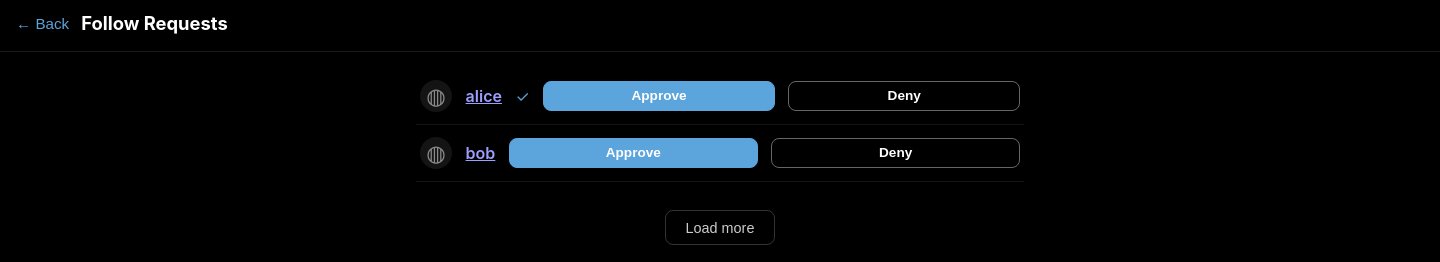
Test: denying removes the row
Click the button with aria-label "Deny bob".
click(896, 153)  # box [771,138,1020,168]
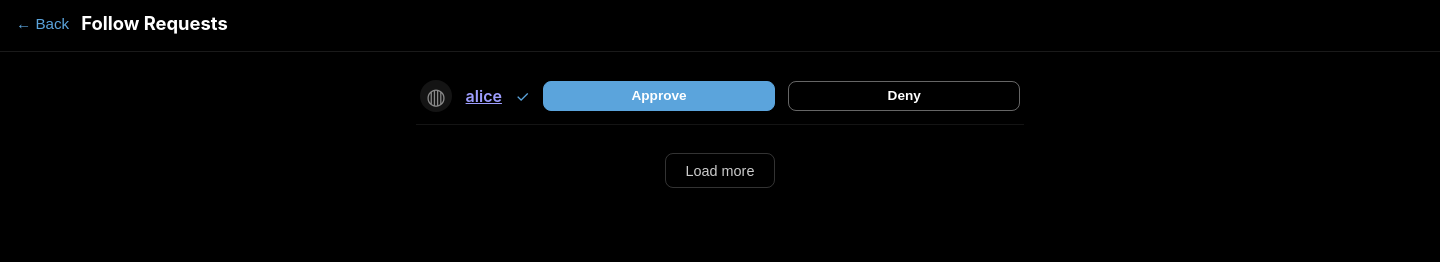
Expected: the link "bob" is gone
